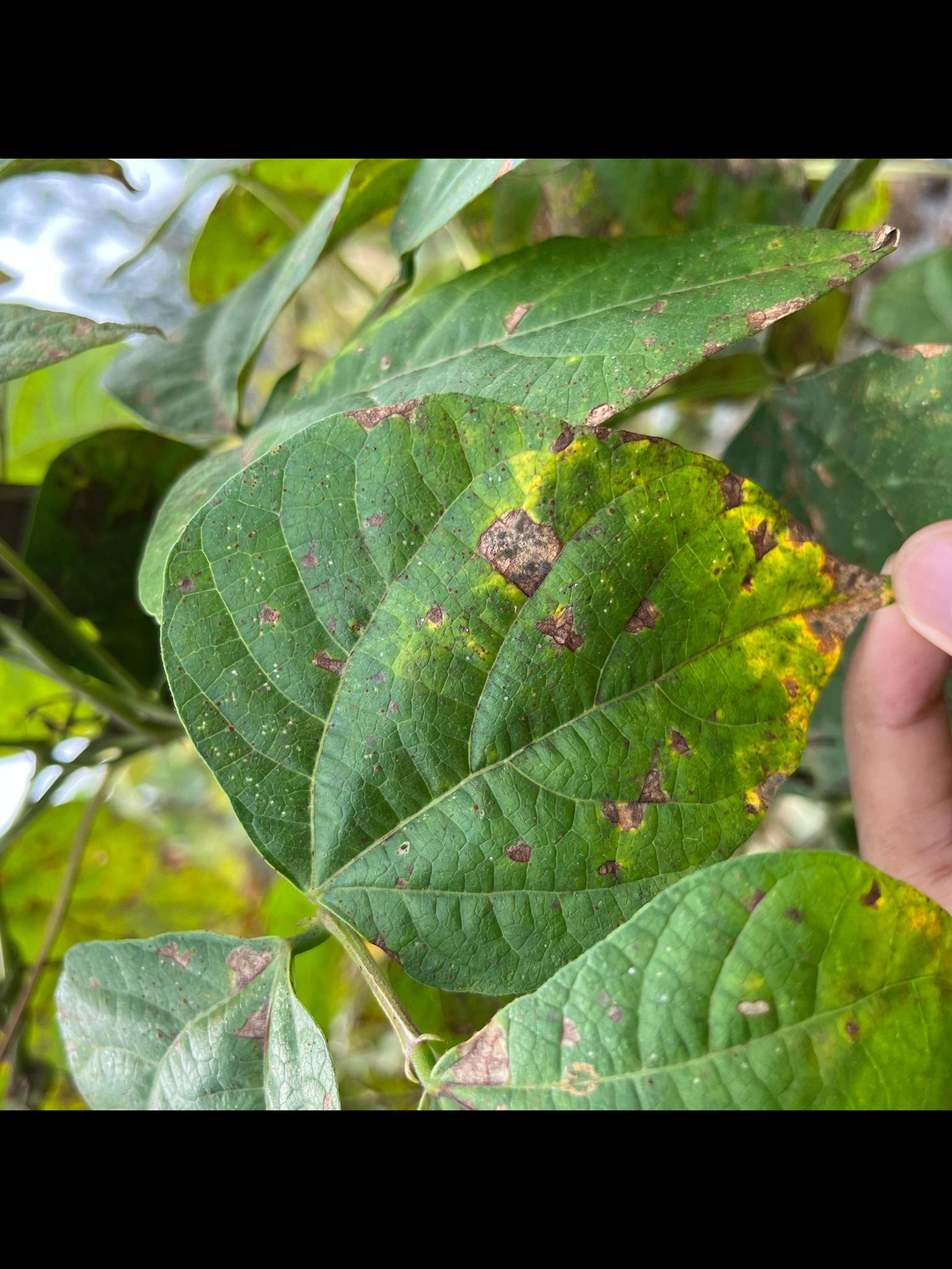hawar: (407, 407, 909, 906)
